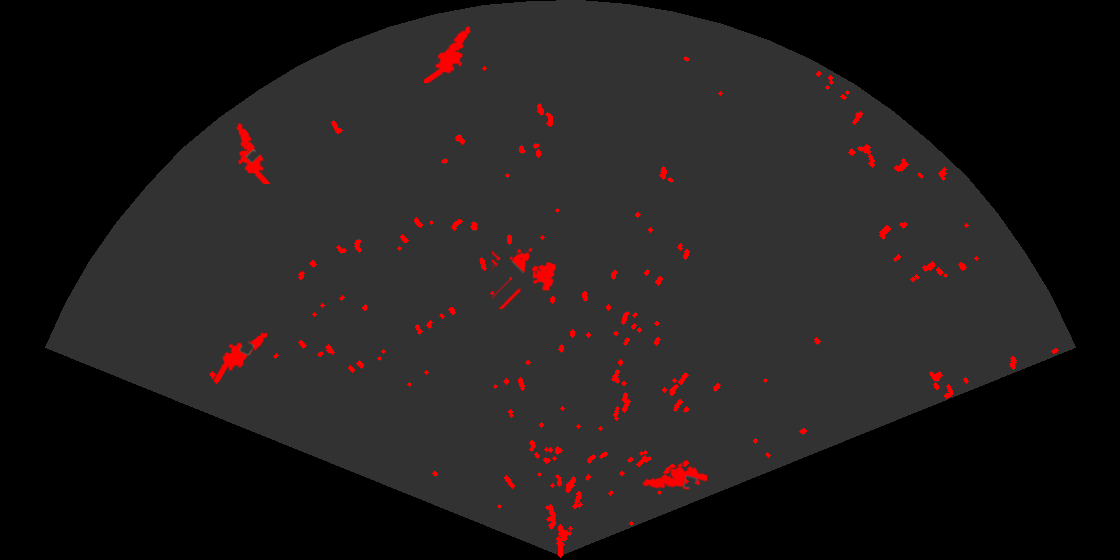cage: (492, 246, 558, 309)
frogman: (212, 331, 269, 381), (424, 25, 473, 83), (235, 122, 272, 184), (640, 461, 707, 491)
